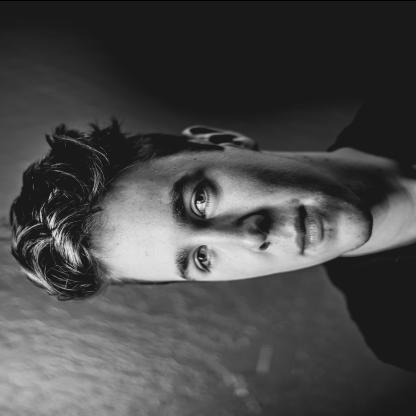Eye: (191, 180, 220, 218), (193, 244, 220, 272)
Mouth: (293, 203, 323, 253)
Nose: (209, 214, 269, 251)
